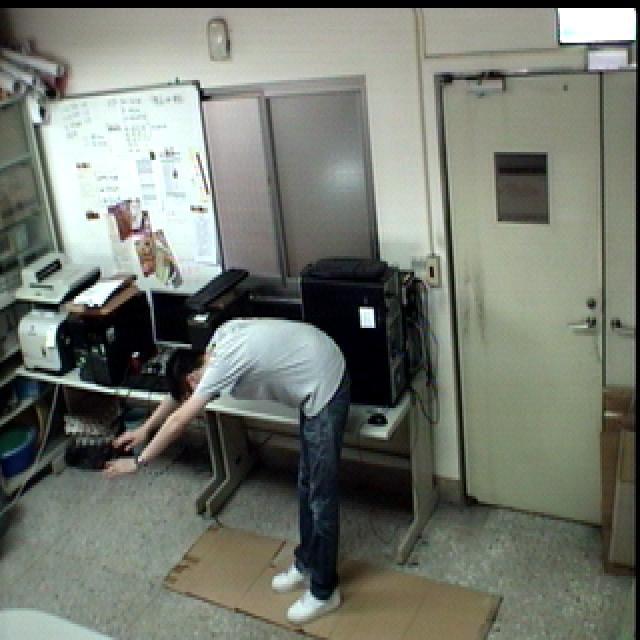bend: (91, 310, 360, 630)
